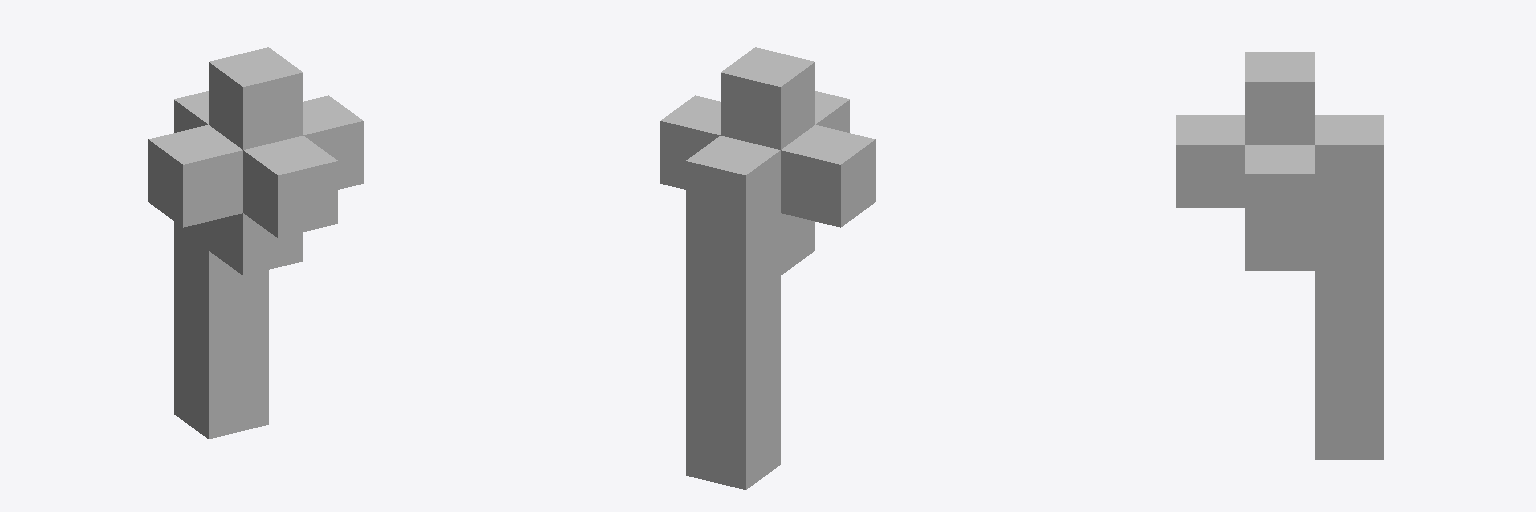
The model's file is Little_flower_2.obj.
The picture shows the model from 3 angles: view 1: azimuth 30°, elevation 25°; view 2: azimuth 150°, elevation 25°; view 3: azimuth 270°, elevation 25°; orthographic projection.
Visible parts, largest first — view 1: Little flower 2; view 2: Little flower 2; view 3: Little flower 2.
Boxes of the visible parts, x1,y1,x2,y2 form: Little flower 2: [148, 47, 363, 438]; Little flower 2: [660, 47, 875, 489]; Little flower 2: [1176, 52, 1383, 459].
Bounding box in the file's own units: 3 × 6 × 3.